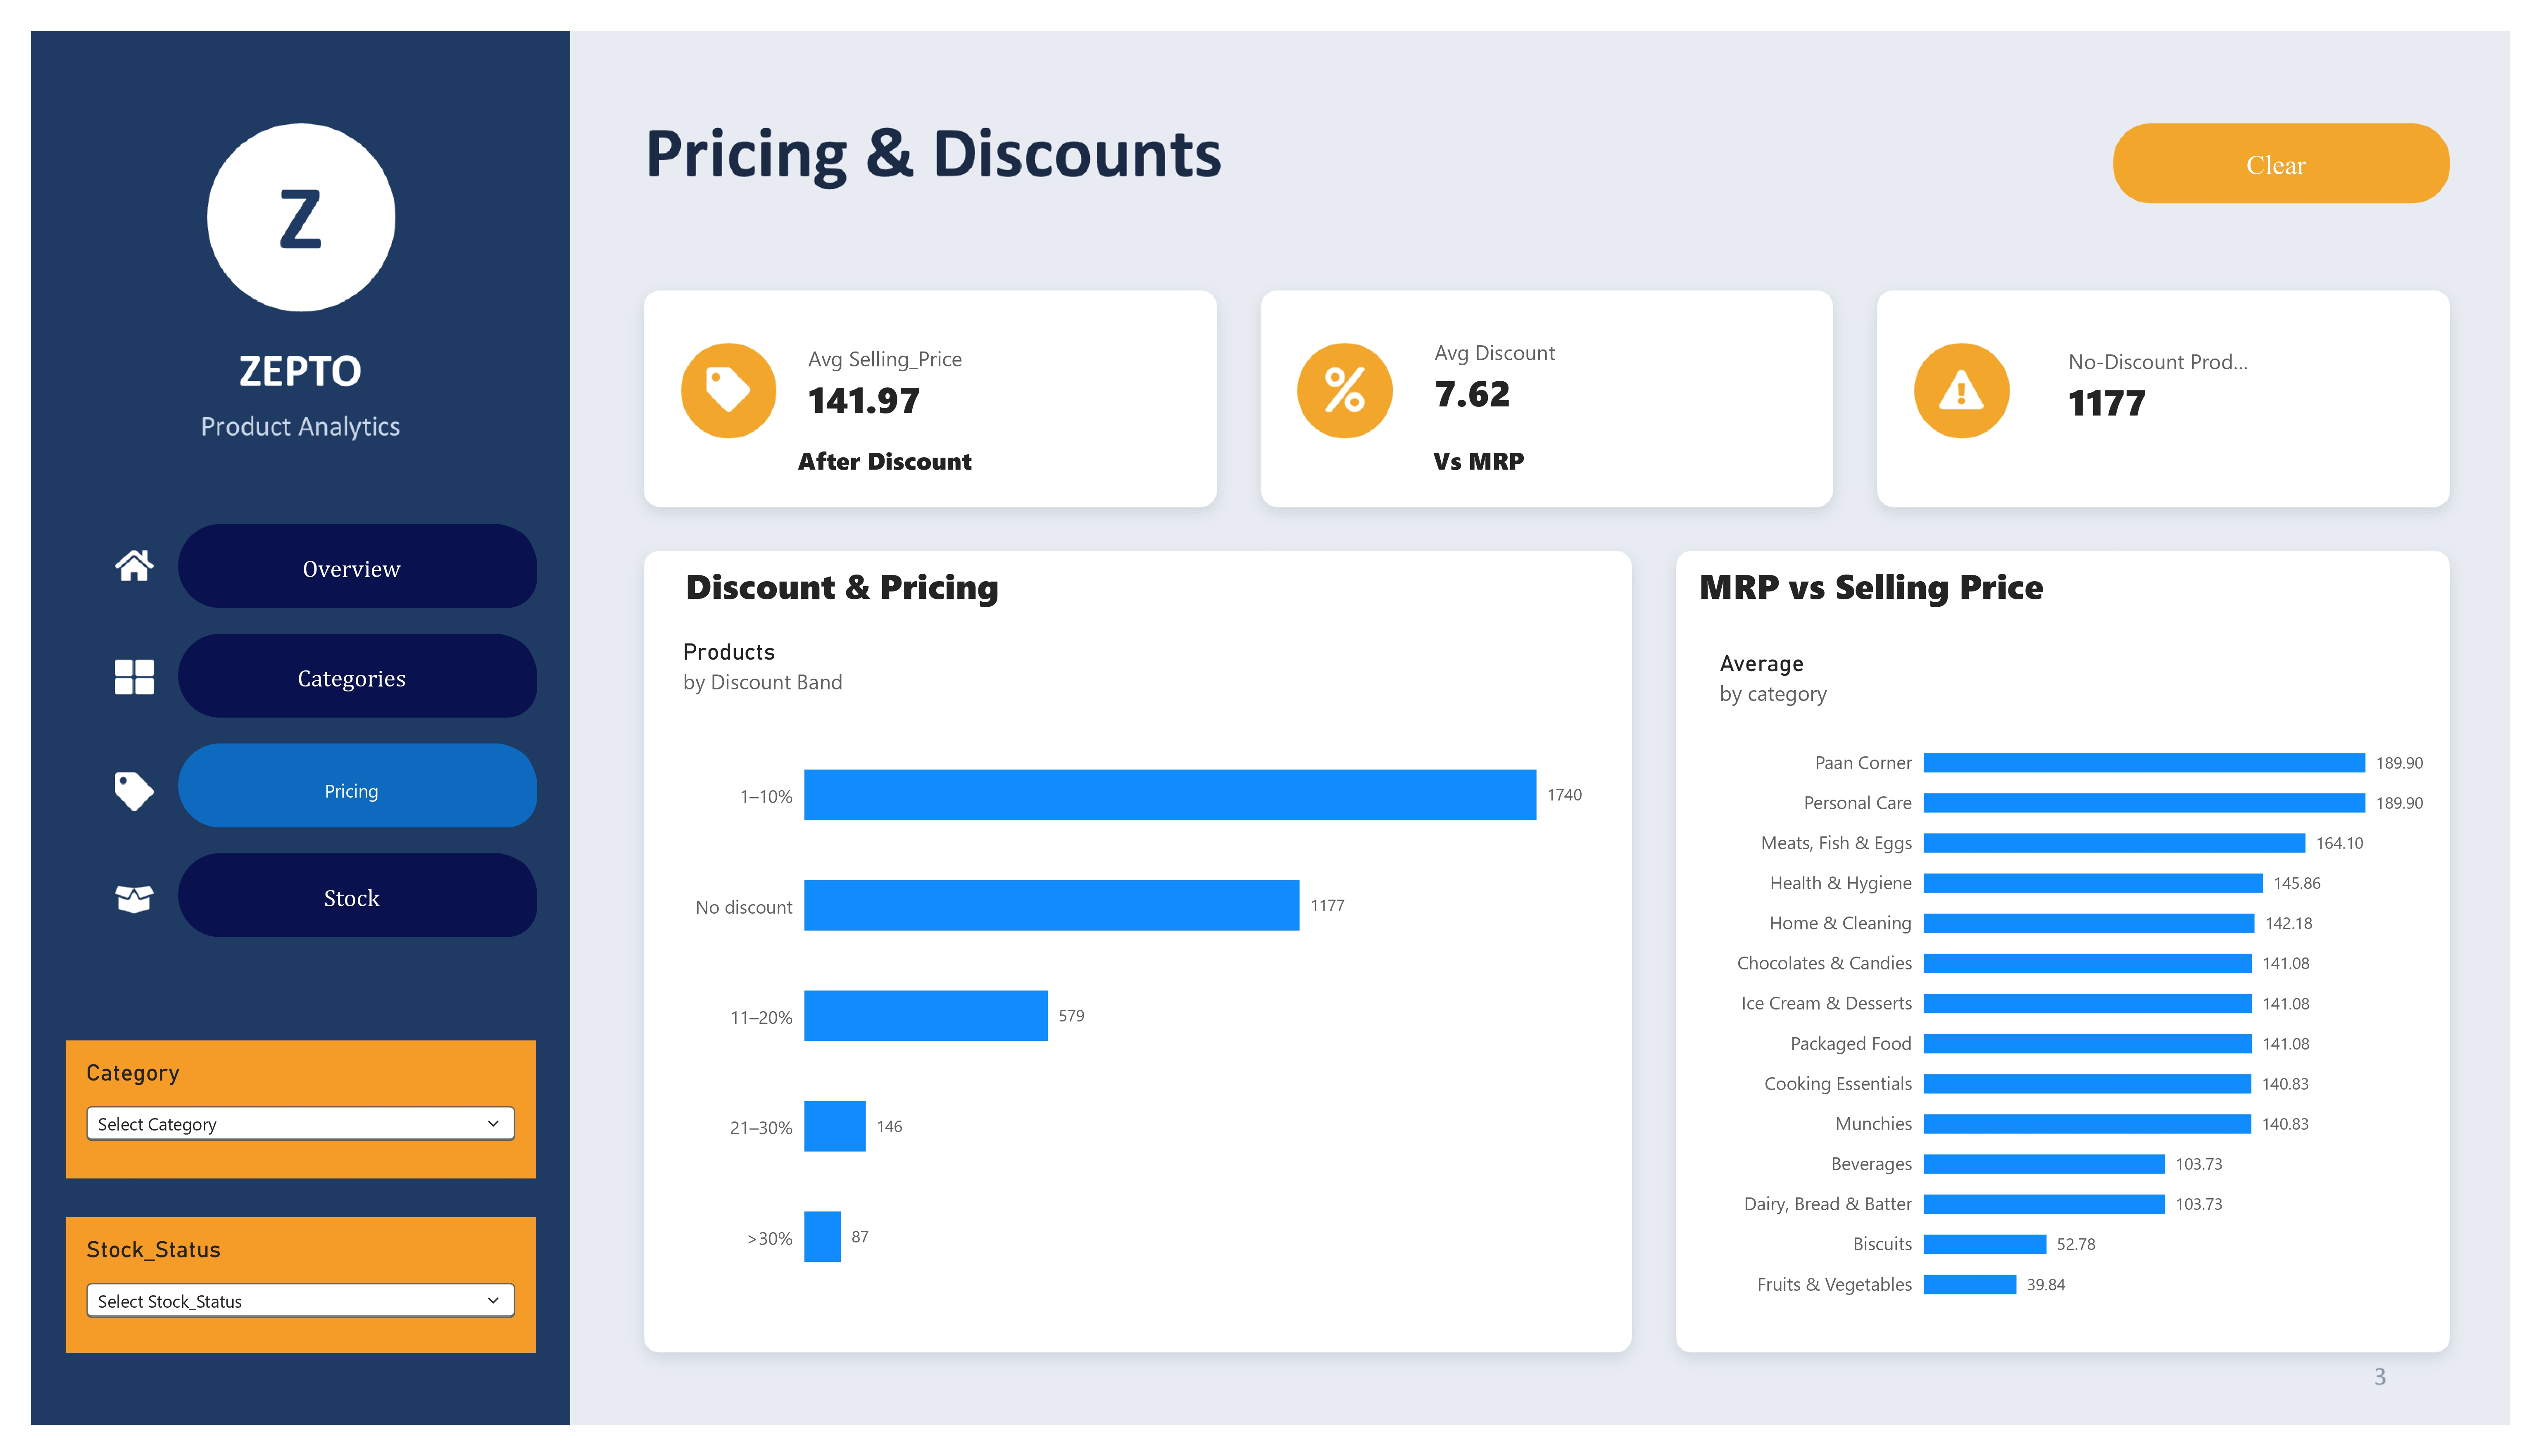

What the dashboard file says about the page in this screenshot:
{"tool":"powerbi","page":{"name":"Pricing","canvas":[1920,1080],"ordinal":2},"visuals":[{"type":"actionButton","box":[1608.8,70.6,260.6,68.8],"z":0},{"type":"pageNavigator","box":[114,382,278,322],"z":1000},{"type":"cardVisual","fields":{"Data":["Avg(zepto_cleaned.discounted_selling_price)"]},"box":[586.3,228,209.9,92.3],"z":2000},{"type":"textbox","box":[593.6,320.3,202.7,34.4],"z":3000},{"type":"cardVisual","fields":{"Data":["Avg(zepto_cleaned.discount_percent)"]},"box":[1071.3,228,220.8,81.4],"z":4000},{"type":"textbox","box":[1085.8,320.3,132.1,105],"z":5000},{"type":"cardVisual","fields":{"Data":["Count(zepto_cleaned.product_id)"]},"box":[1561.7,229.8,177.3,92.3],"z":6000},{"type":"clusteredBarChart","fields":{"Category":["zepto_cleaned.Discount Band"],"Y":["CountNonNull(zepto_cleaned.product_id)"]},"box":[488.6,456,729.3,551.9],"z":7000},{"type":"textbox","box":[506.7,410.8,1002.6,106.8],"z":8000},{"type":"textbox","box":[1292.1,410.8,597.2,54.3],"z":9000},{"type":"clusteredBarChart","fields":{"Category":["zepto_cleaned.category"],"Y":["Avg(zepto_cleaned.discounted_selling_price)"]},"box":[1292.1,465.1,577.3,542.9],"z":10000},{"type":"listSlicer","fields":{"Values":["zepto_cleaned.category"]},"box":[27.1,781.8,363.7,106.8],"z":10001},{"type":"listSlicer","fields":{"Values":["zepto_cleaned.stock_status"]},"box":[27.1,919.3,363.7,105],"z":10002}]}

Visuals, with their boxes on the page's 1920x1080 design canvas (x1, y1, x2, y2). These are canvas units, not pixel positions in the 2541x1456 screenshot, which may show the page scaled, cropped or inside an application window:
actionButton: l=1609, t=71, r=1869, b=139
pageNavigator: l=114, t=382, r=392, b=704
cardVisual - Avg(zepto_cleaned.discounted_selling_price): l=586, t=228, r=796, b=320
textbox: l=594, t=320, r=796, b=355
cardVisual - Avg(zepto_cleaned.discount_percent): l=1071, t=228, r=1292, b=309
textbox: l=1086, t=320, r=1218, b=425
cardVisual - Count(zepto_cleaned.product_id): l=1562, t=230, r=1739, b=322
clusteredBarChart - zepto_cleaned.Discount Band x CountNonNull(zepto_cleaned.product_id): l=489, t=456, r=1218, b=1008
textbox: l=507, t=411, r=1509, b=518
textbox: l=1292, t=411, r=1889, b=465
clusteredBarChart - zepto_cleaned.category x Avg(zepto_cleaned.discounted_selling_price): l=1292, t=465, r=1869, b=1008
listSlicer - zepto_cleaned.category: l=27, t=782, r=391, b=889
listSlicer - zepto_cleaned.stock_status: l=27, t=919, r=391, b=1024
